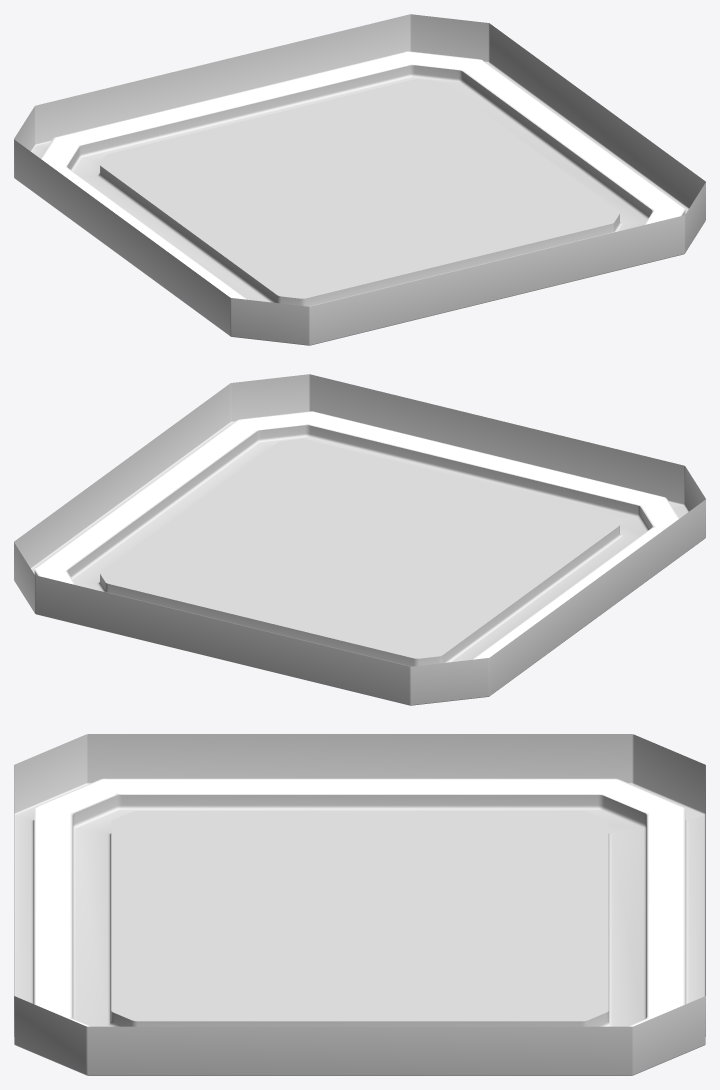
File: MCeilingTrim250x250-1.FBX
3 renders of one model, top to bottom at view 1: azimuth 30°, elevation 25°; view 2: azimuth 150°, elevation 25°; view 3: azimuth 270°, elevation 25°, orthographic. The views are drawn at different scales.
Visible parts, largest first — view 1: MCeilingTrim250x250-1; view 2: MCeilingTrim250x250-1; view 3: MCeilingTrim250x250-1.
Boxes of the visible parts, x1,y1,x2,y2 form: MCeilingTrim250x250-1: (14, 14, 705, 345); MCeilingTrim250x250-1: (14, 374, 705, 705); MCeilingTrim250x250-1: (14, 734, 705, 1075).
Size of what is drawn, in the model's own units: 3.15 by 0.25 by 3.15.
